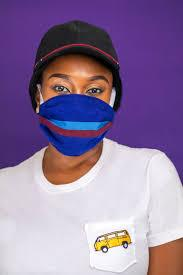cap: (32, 13, 124, 80)
mask: (36, 89, 118, 163)
